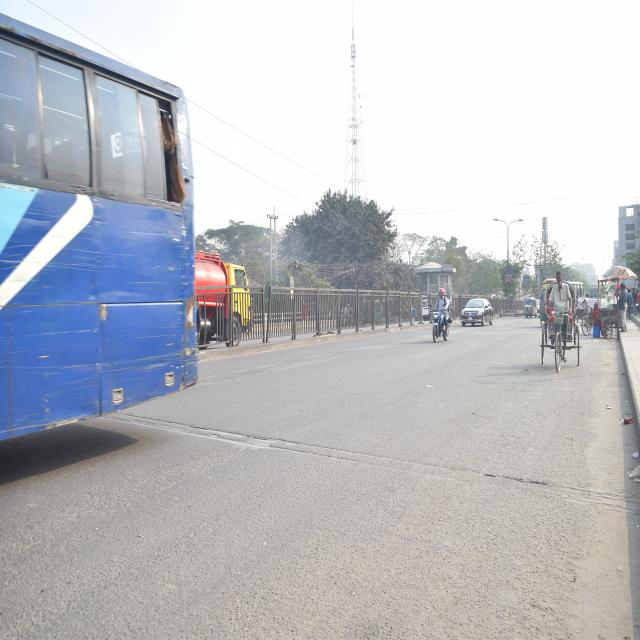bus: (0, 26, 200, 459)
car: (460, 293, 496, 332)
motorbike: (424, 293, 452, 350)
truck: (200, 252, 250, 354)
